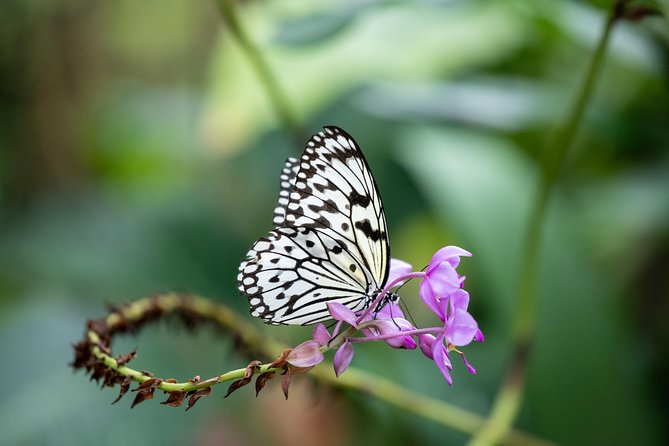kelebek: (242, 114, 402, 338)
